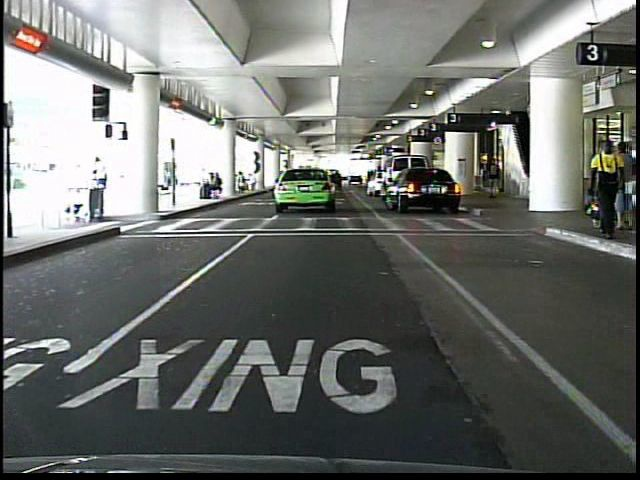person: (577, 135, 621, 243), (87, 155, 120, 226), (609, 144, 634, 232), (484, 157, 503, 203)
